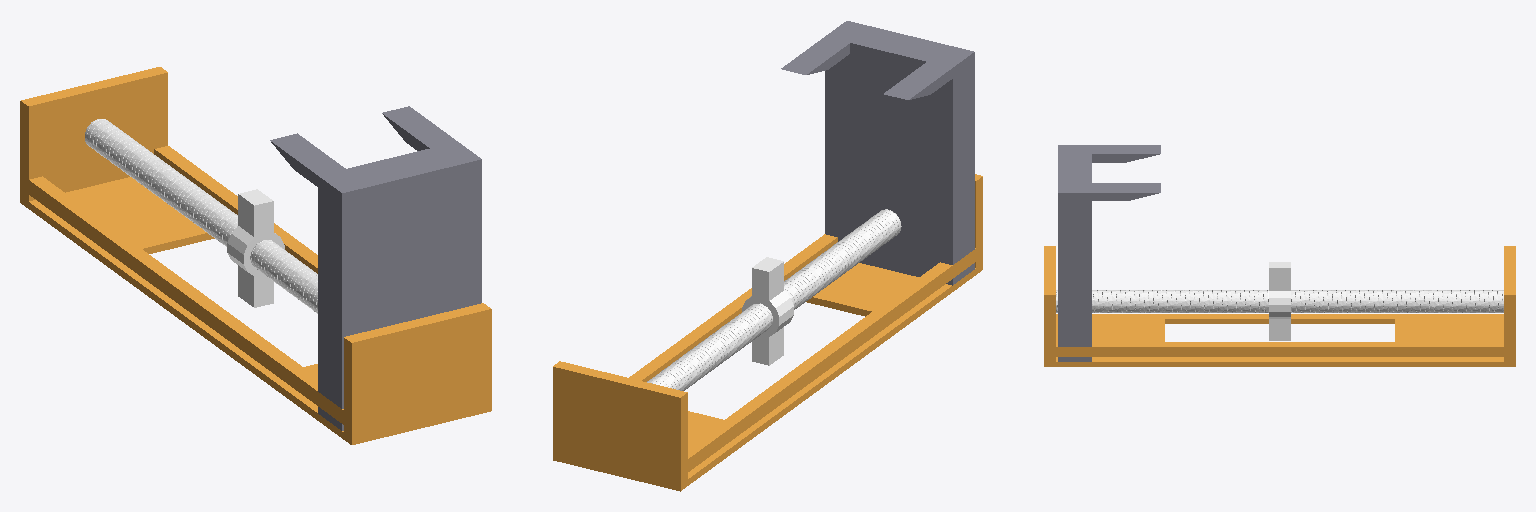
URDF robot description (solidworks2ros_try8):
<?xml version="1.0" encoding="utf-8"?>
<!-- This URDF was automatically created by SolidWorks to URDF Exporter! Originally created by [author] ([email redacted]) 
     Commit Version: 1.6.0-4-g7f85cfe  Build Version: 1.6.7995.38578
     For more information, please see http://wiki.ros.org/sw_urdf_exporter -->
<robot
  name="solidworks2ros_try8">
  
  <link name="dummy"> 
  </link>

  <joint name="dummy_joint" type="fixed">
     <parent link="dummy"/>
     <child link="base_link"/>
  </joint>
  
  <link name="base_link">
    <inertial>
      <origin
        xyz="-2.2204E-16 -7.7716E-16 -0.26807"
        rpy="0 0 0" />
      <mass
        value="675.68" />
      <inertia
        ixx="2906.5"
        ixy="-2.4908E-13"
        ixz="3.3337E-15"
        iyy="171.8"
        iyz="-1.1903E-13"
        izz="2995.7" />
    </inertial>
    <visual>
      <origin
        xyz="0 0 0"
        rpy="0 0 0" />
      <geometry>
        <mesh
          filename="package://solidworks2ros_try8/meshes/base_link.STL" />
      </geometry>
      <material
        name="">
        <color
          rgba="1 0.72157 0.32941 1" />
      </material>
    </visual>
    <collision>
      <origin
        xyz="0 0 0"
        rpy="0 0 0" />
      <geometry>
        <mesh
          filename="package://solidworks2ros_try8/meshes/base_link.STL" />
      </geometry>
    </collision>
  </link>

  <link name="link_1">
    <inertial>
      <origin
        xyz="8.6234E-07 -1.4857E-05 2.0799E-06"
        rpy="0 0 0" />
      <mass
        value="295.71" />
      <inertia
        ixx="555.35"
        ixy="0.0013913"
        ixz="-0.00014897"
        iyy="4.9602"
        iyz="-0.0014908"
        izz="553" />
    </inertial>
    <visual>
      <origin
        xyz="0 0 0"
        rpy="0 0 0" />
      <geometry>
        <mesh
          filename="package://solidworks2ros_try8/meshes/link_1.STL" />
      </geometry>
      <material
        name="">
        <color
          rgba="1 1 1 1" />
      </material>
    </visual>
    <collision>
      <origin
        xyz="0 0 0"
        rpy="0 0 0" />
      <geometry>
        <mesh
          filename="package://solidworks2ros_try8/meshes/link_1.STL" />
      </geometry>
    </collision>
  </link>

  <joint name="joint_1"
    type="revolute">
    <origin
      xyz="0 0 0"
      rpy="0 0 0" />
    <parent
      link="base_link" />
    <child
      link="link_1" />
    <axis
      xyz="0 1 0" />
    <limit
      lower="0"
      upper="100"
      effort="100"
      velocity="1" />
  </joint>
  
  <link name="link_2">
    <inertial>
      <origin
        xyz="2.2204E-16 0.014443 0.63917"
        rpy="0 0 0" />
      <mass
        value="996.53" />
      <inertia
        ixx="366.74"
        ixy="3.6008"
        ixz="7.1211"
        iyy="484.63"
        iyz="-6.8748"
        izz="150.15" />
    </inertial>
    <visual>
      <origin
        xyz="0 0 0"
        rpy="0 0 0" />
      <geometry>
        <mesh
          filename="package://solidworks2ros_try8/meshes/link_2.STL" />
      </geometry>
      <material
        name="">
        <color
          rgba="0.58824 0.58824 0.63137 1" />
      </material>
    </visual>
    <collision>
      <origin
        xyz="0 0 0"
        rpy="0 0 0" />
      <geometry>
        <mesh
          filename="package://solidworks2ros_try8/meshes/link_2.STL" />
      </geometry>
    </collision>
  </link>

  <joint name="joint_2"
    type="prismatic">
    <origin
      xyz="0 -2.2659 0"
      rpy="0 0 0" />
    <parent
      link="base_link" />
    <child
      link="link_2" />
    <axis
      xyz="0 1 0" />
    <limit
      lower="0"
      upper="10"
      effort="100"
      velocity="1" />
  </joint>

  <link name="link_3">
    <inertial>
      <origin
        xyz="0 -0.014399 0.64238"
        rpy="0 0 0" />
      <mass
        value="999.61" />
      <inertia
        ixx="386.55"
        ixy="1.5095E-14"
        ixz="-5.7002E-15"
        iyy="498.19"
        iyz="13.547"
        izz="150.68" />
    </inertial>
    <visual>
      <origin
        xyz="0 0 0"
        rpy="0 0 0" />
      <geometry>
        <mesh
          filename="package://solidworks2ros_try8/meshes/link_3.STL" />
      </geometry>
      <material
        name="">
        <color
          rgba="0.58824 0.58824 0.63137 1" />
      </material>
    </visual>
    <collision>
      <origin
        xyz="0 0 0"
        rpy="0 0 0" />
      <geometry>
        <mesh
          filename="package://solidworks2ros_try8/meshes/link_3.STL" />
      </geometry>
    </collision>
  </link>

  <joint name="joint_3"
    type="prismatic">
    <origin
      xyz="0 2.2659 0"
      rpy="0 0 0" />
    <parent
      link="base_link" />
    <child
      link="link_3" />
    <axis
      xyz="0 -1 0" />
    <limit
      lower="0"
      upper="10"
      effort="100"
      velocity="1" />
  </joint>z

<!-- Position Contoller -->
<transmission name ="trans_1">
    <type>transmission_interface/SimpleTransmission</type>
    <joint name="joint_1">
        <hardwareInterface>hardware_interface/PositionJointInterface</hardwareInterface>
    </joint>
    <actuator name="motor_1">
        <hardwareInterface>hardware_interface/PositionJointInterface</hardwareInterface>
        <mechanicalReduction>1</mechanicalReduction>
    </actuator>
</transmission>

<transmission name ="trans_2">
    <type>transmission_interface/SimpleTransmission</type>
    <joint name="joint_2">
        <hardwareInterface>hardware_interface/PositionJointInterface</hardwareInterface>
    </joint>
    <actuator name="motor_2">
        <hardwareInterface>hardware_interface/PositionJointInterface</hardwareInterface>
        <mechanicalReduction>1</mechanicalReduction>
    </actuator>
</transmission>

<transmission name ="trans_3">
    <type>transmission_interface/SimpleTransmission</type>
    <joint name="joint_3">
        <hardwareInterface>hardware_interface/PositionJointInterface</hardwareInterface>
    </joint>
    <actuator name="motor_3">
        <hardwareInterface>hardware_interface/PositionJointInterface</hardwareInterface>
        <mechanicalReduction>1</mechanicalReduction>
    </actuator>
</transmission>

<!-- Gazebo controller -->
<gazebo>
    <plugin name="control" filename="libgazebo_ros_control.so"/>
</gazebo>
  
<!-- Gazebo visual interface for the links-->
<gazebo reference="base_link">
    <material>Gazebo/Orange</material>
</gazebo>

<gazebo reference="link_1">
    <material>Gazebo/White</material>
</gazebo>

<gazebo reference="link_2">
    <material>Gazebo/Gray</material>
</gazebo>

<gazebo reference="link_3">
    <material>Gazebo/Gray</material>
</gazebo>

</robot>

--- Facts derived from the render (not from the file) ---
The picture shows the robot from 3 angles, left to right: view 1: azimuth 30°, elevation 25°; view 2: azimuth 150°, elevation 25°; view 3: azimuth 270°, elevation 25°; orthographic projection.
Robot: solidworks2ros_try8 — 5 links, 4 joints (1 revolute, 2 prismatic, 1 fixed); root link dummy; default pose: all joints at 0.
Links seen in each view (by area): view 1: base_link, link_2, link_1; view 2: link_2, base_link, link_1; view 3: base_link, link_1, link_2.
Link boxes in pixels (bbox=[...]): base_link: bbox=[20, 67, 491, 444]; link_2: bbox=[270, 106, 481, 430]; link_1: bbox=[85, 119, 317, 313]; link_2: bbox=[781, 21, 974, 285]; base_link: bbox=[553, 174, 982, 491]; link_1: bbox=[647, 209, 901, 390]; base_link: bbox=[1044, 246, 1515, 366]; link_1: bbox=[1056, 262, 1503, 340]; link_2: bbox=[1058, 145, 1160, 361].
Size in the robot's own frame: 1.27 by 5.21 by 2.13 metres.
Meshes: 4 distinct files referenced, 3 mesh visuals loaded (3 binary STL); not drawn: 1 (reference not matched to a file when rendering).
